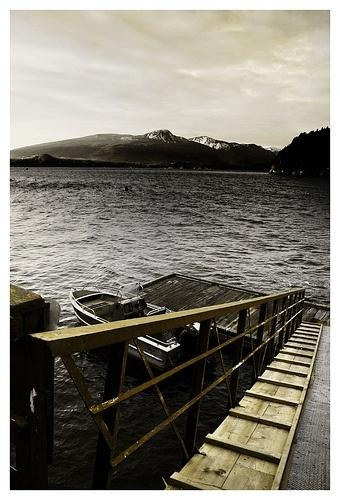boat: (66, 277, 209, 372)
